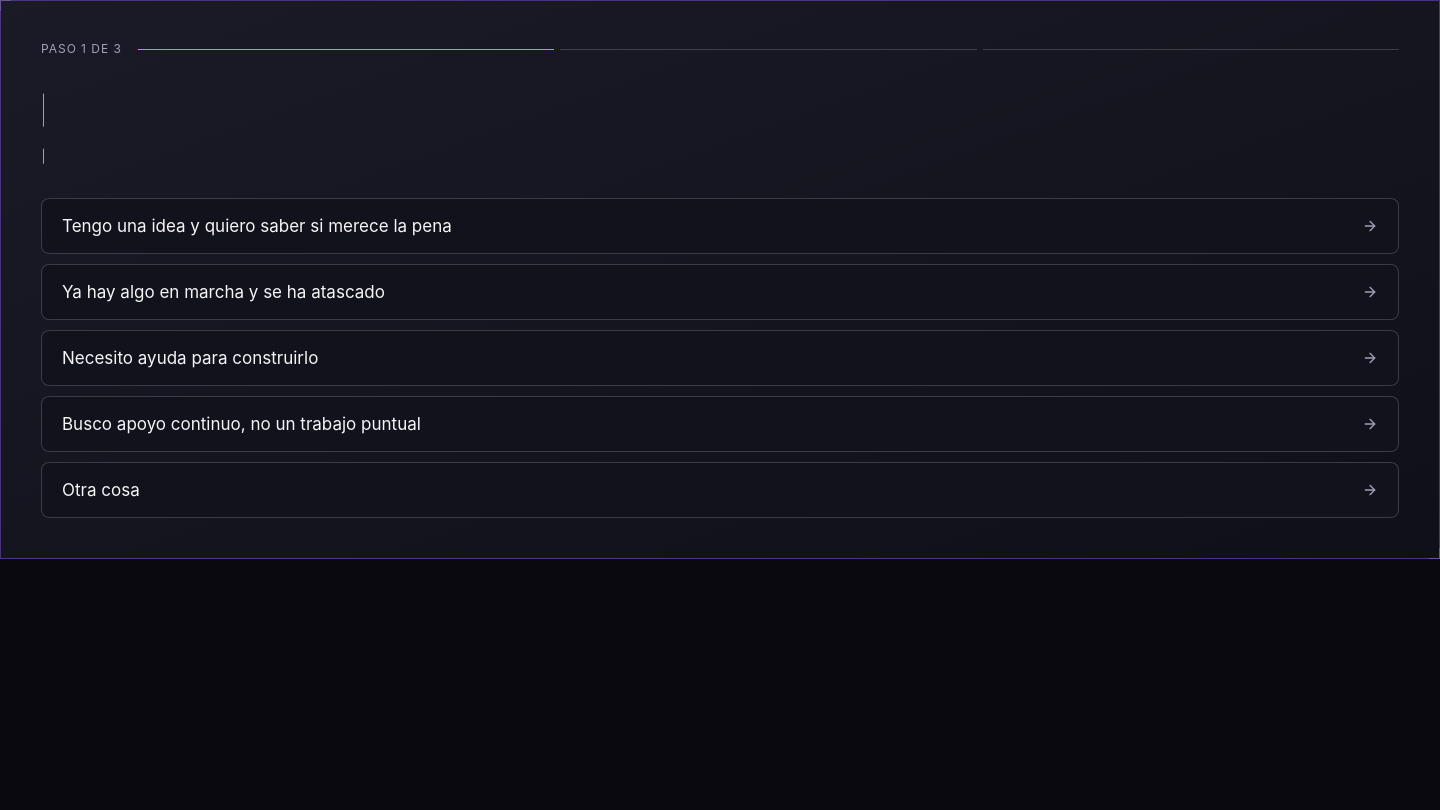
Test: ContactForm steps › advances as soon as a starting point is chosen, and moves focus
This screenshot has width=1440, height=810.
Step 1. Click the button "Tengo una idea y quiero saber si merece la pena" → click(257, 226), box left=41, top=198, right=1399, bottom=254
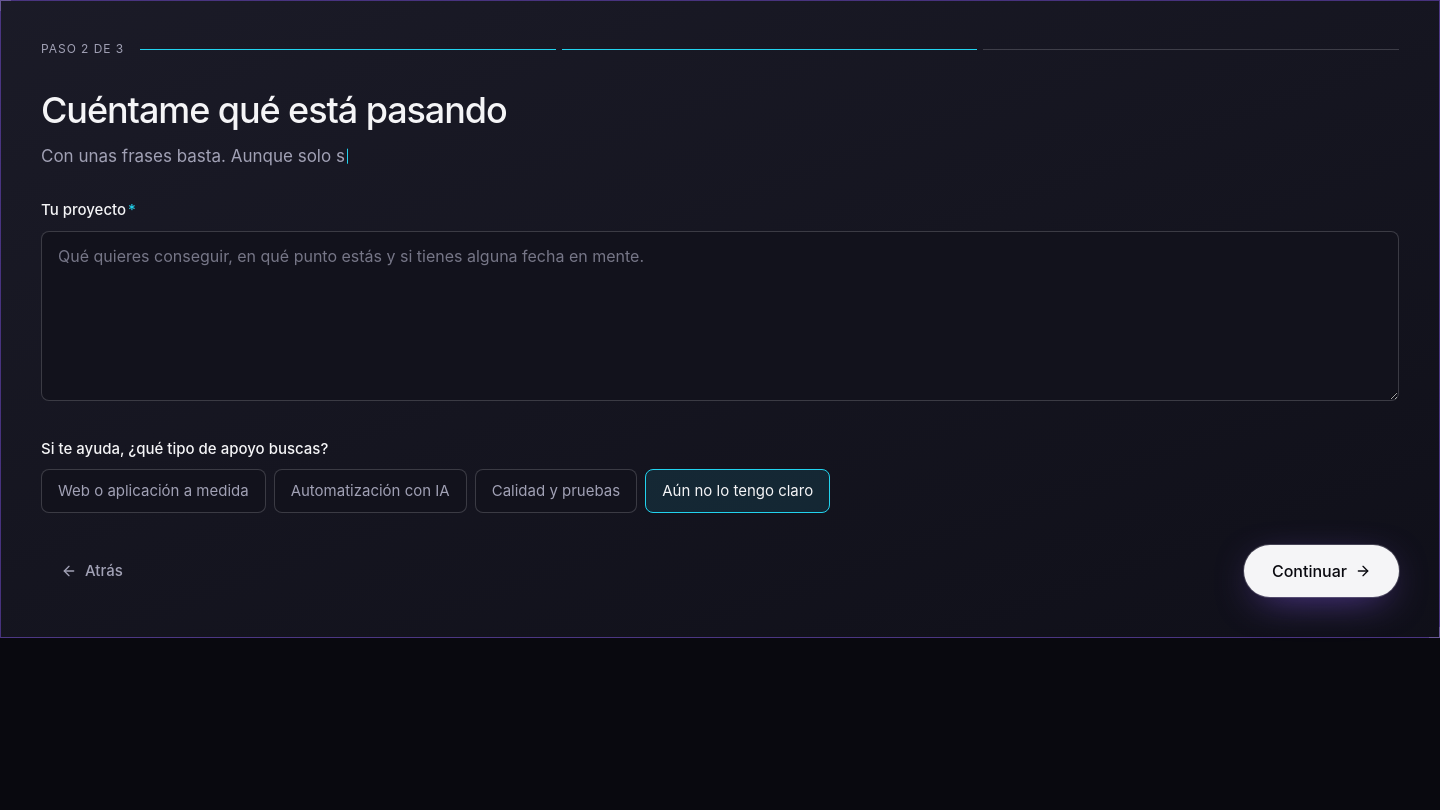
Now the text with test id "contact-progress" reads "Paso 2 de 3", box left=41, top=41, right=124, bottom=56
